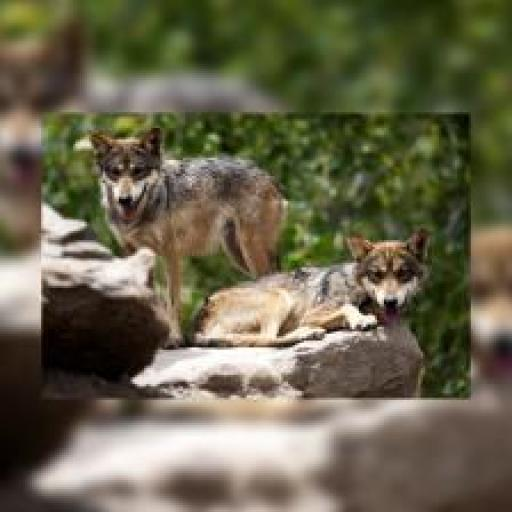wolf: (71, 110, 297, 287), (178, 220, 445, 362)
